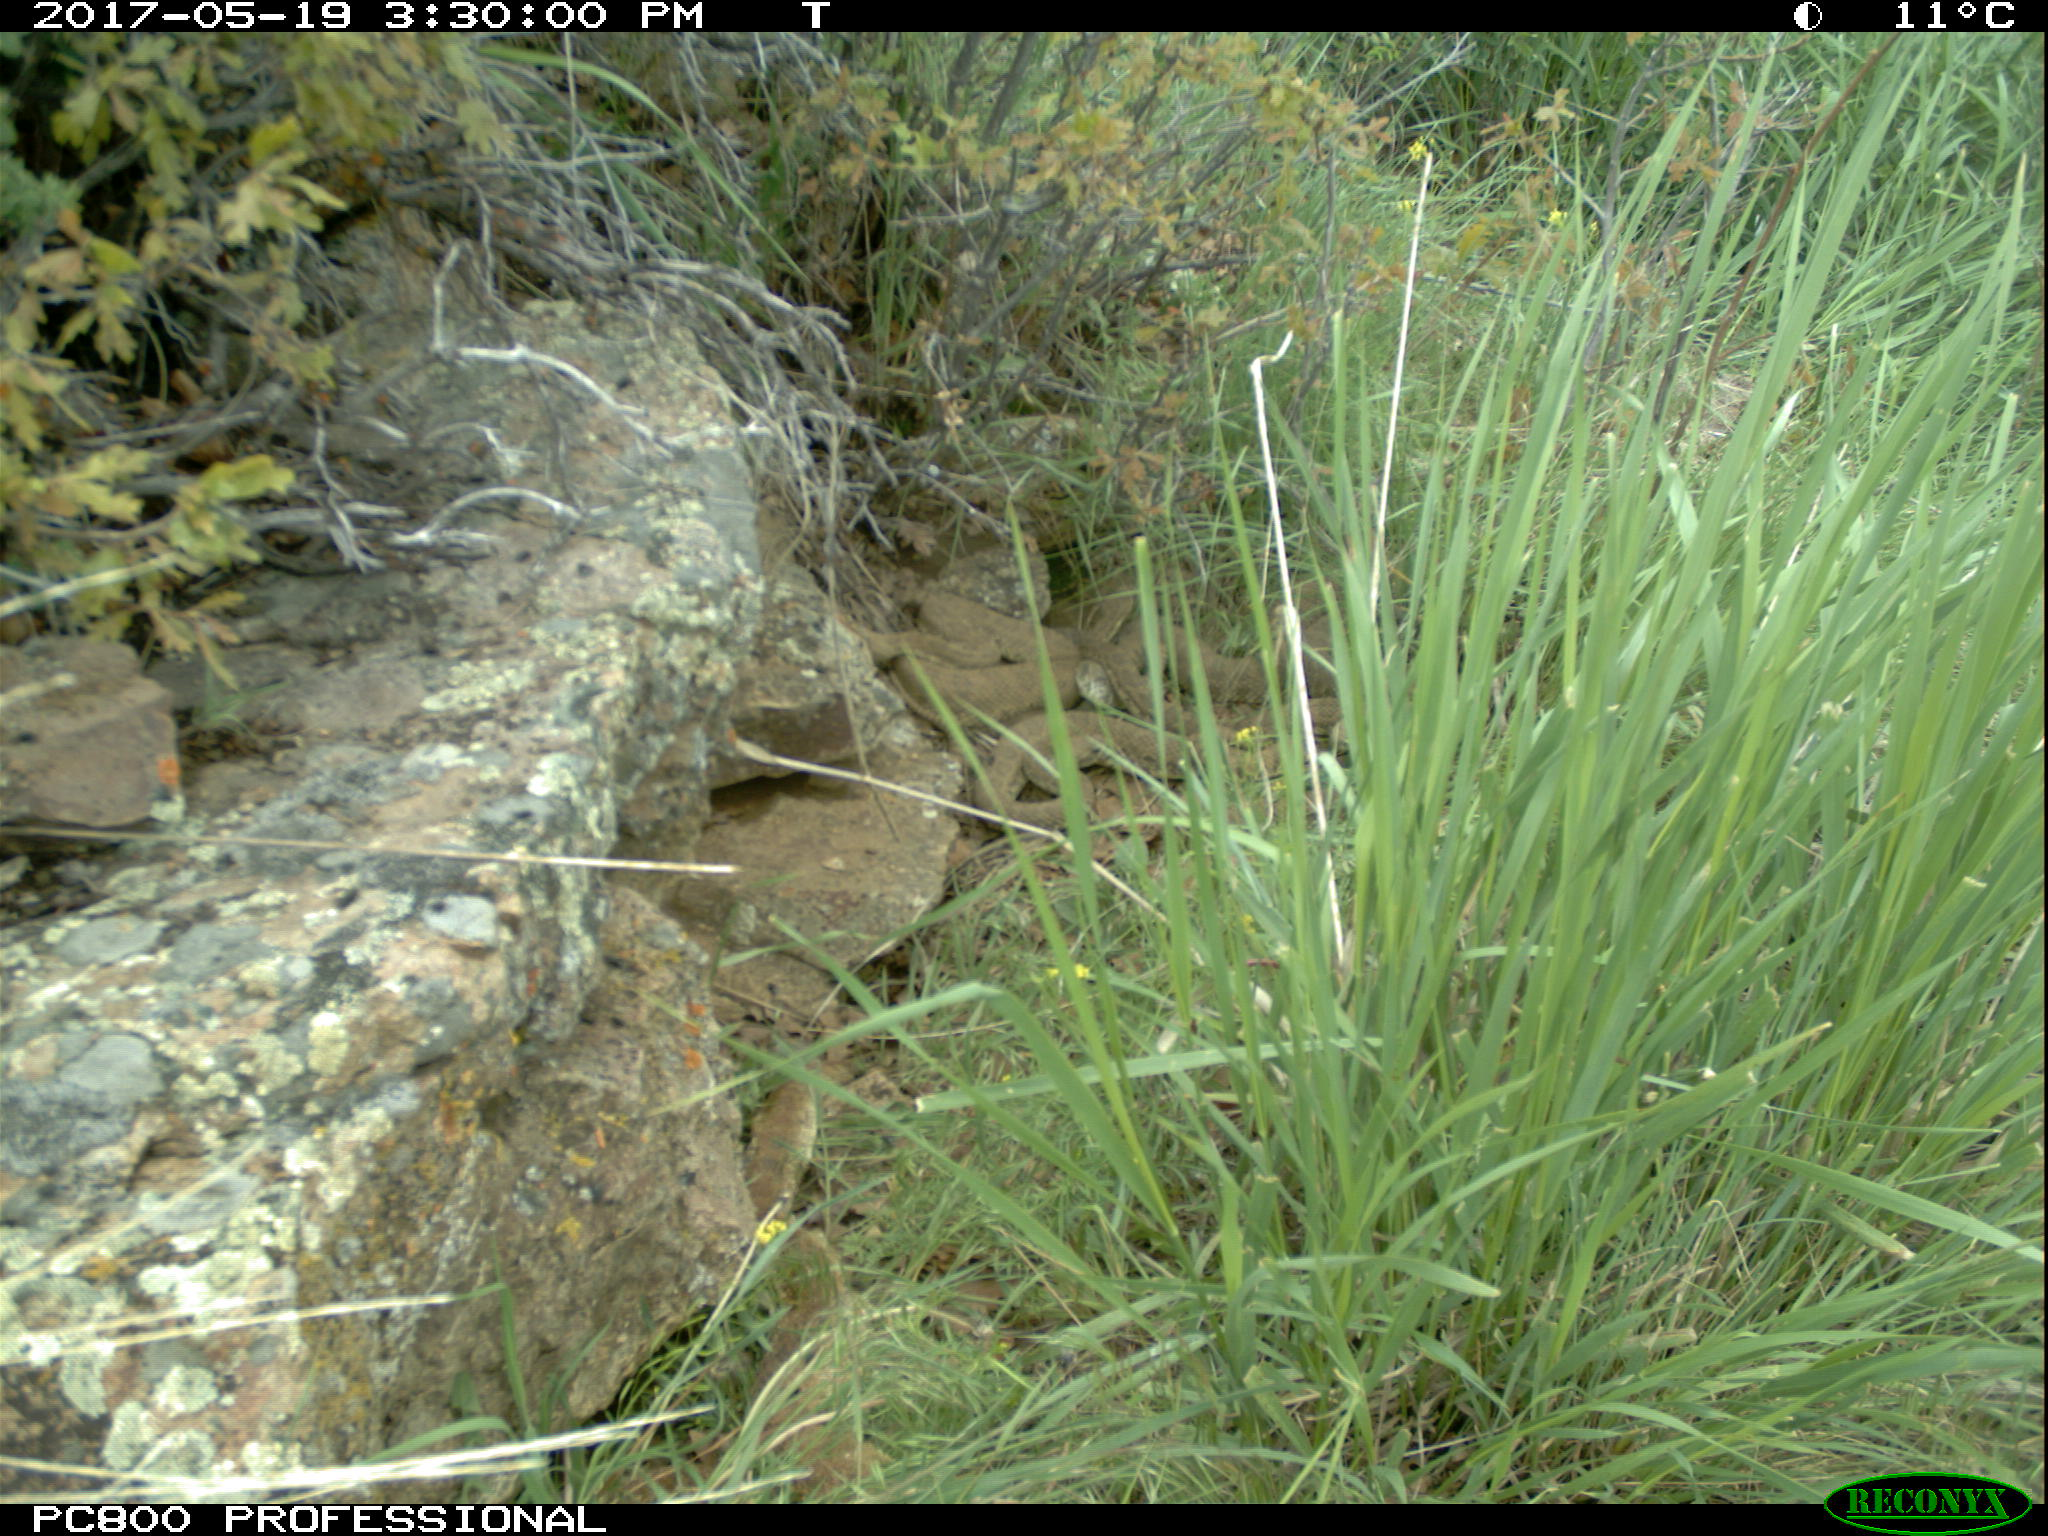snake: (747, 1078, 861, 1484), (856, 595, 1093, 721), (953, 708, 1195, 824), (1106, 624, 1301, 712)
